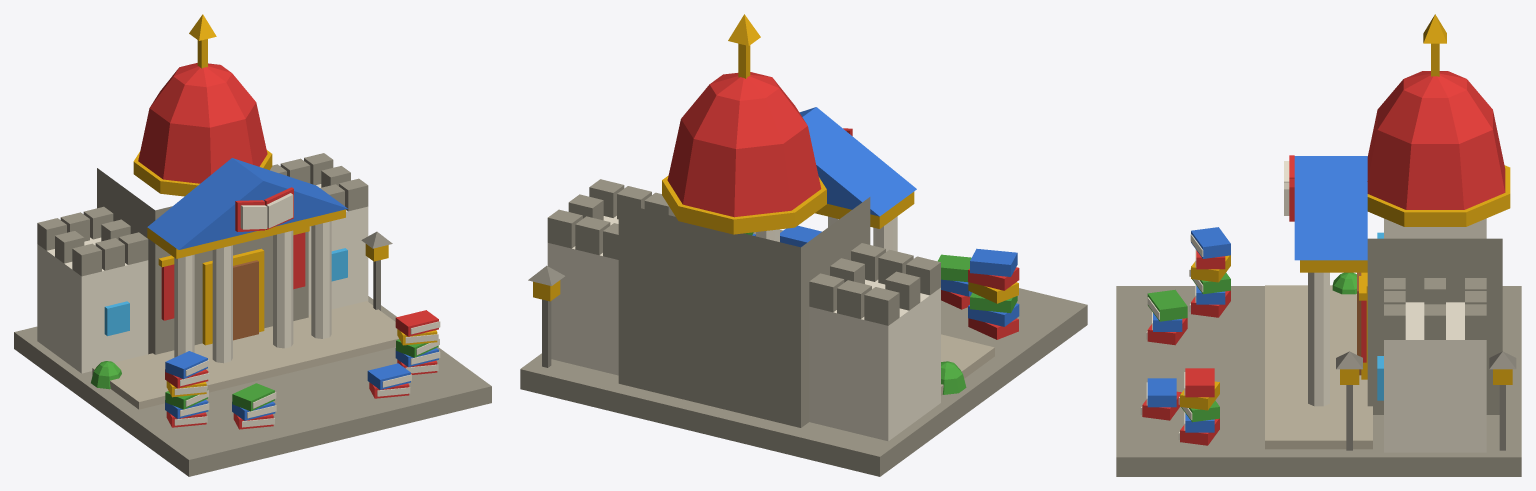
The model's file is library_t3_v3.glb.
3 renders of one model, left to right at view 1: azimuth 30°, elevation 25°; view 2: azimuth 150°, elevation 25°; view 3: azimuth 270°, elevation 25°, orthographic. The views are drawn at different scales.
Visible parts, largest first — view 1: library_t3_v3; view 2: library_t3_v3; view 3: library_t3_v3.
Boxes of the visible parts, left/top/right/bottom form: library_t3_v3: left=14, top=14, right=491, bottom=476; library_t3_v3: left=520, top=14, right=1087, bottom=476; library_t3_v3: left=1116, top=14, right=1521, bottom=476.
Bounding box in the file's own units: 0.75 × 0.77 × 0.75.
1 material, 1 textured.
